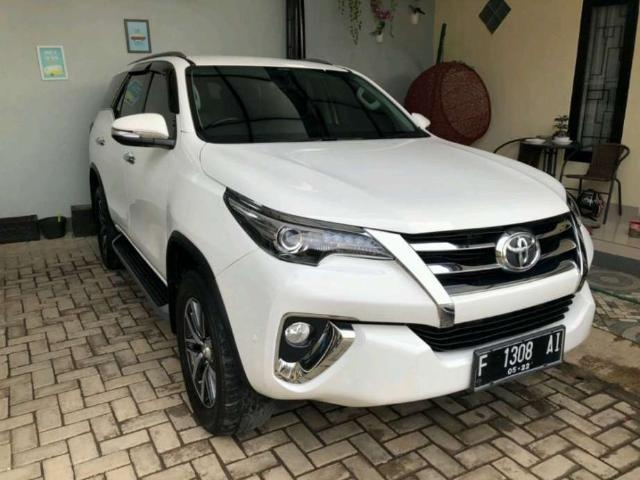plate: (474, 326, 564, 388)
